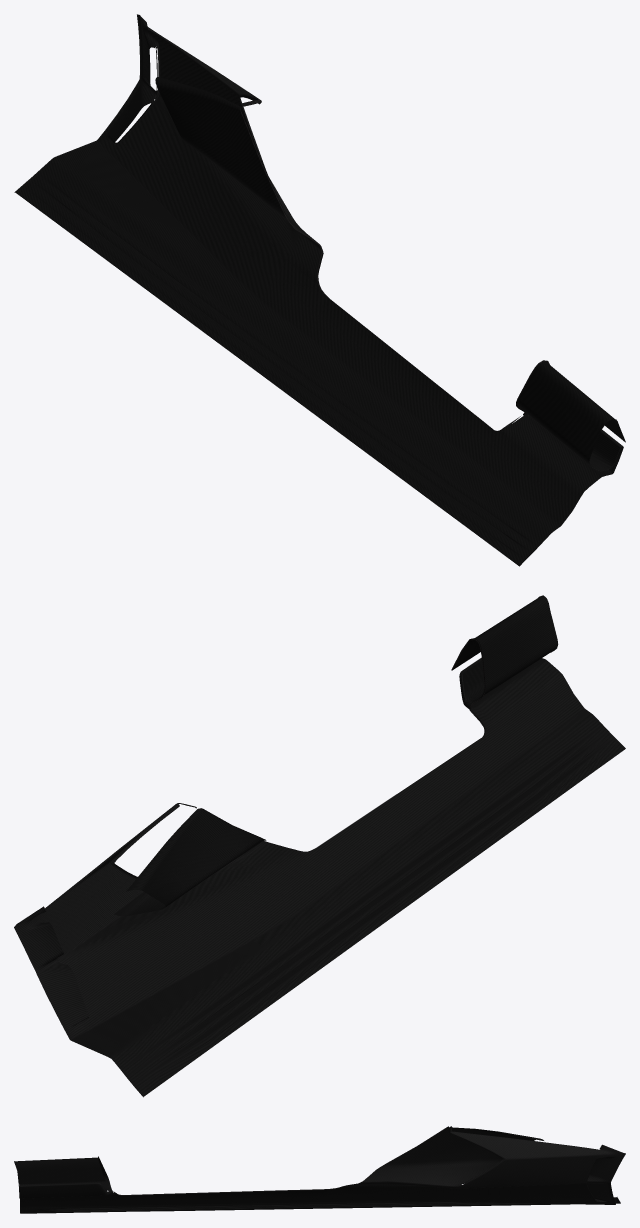
File: sideskirt_l.glb
3 renders of one model, top to bottom at view 1: azimuth 30°, elevation 25°; view 2: azimuth 150°, elevation 25°; view 3: azimuth 270°, elevation 25°, orthographic. The views are drawn at different scales.
Parts seen in each view (by area): view 1: Carbon1_Geo_lodA_Lamborghini_IVRewardRecycled_2024Carbon1_m1; view 2: Carbon1_Geo_lodA_Lamborghini_IVRewardRecycled_2024Carbon1_m1; view 3: Carbon1_Geo_lodA_Lamborghini_IVRewardRecycled_2024Carbon1_m1.
Part boxes in pixels (<box>): Carbon1_Geo_lodA_Lamborghini_IVRewardRecycled_2024Carbon1_m1: <box>14,14,625,566</box>; Carbon1_Geo_lodA_Lamborghini_IVRewardRecycled_2024Carbon1_m1: <box>14,595,625,1097</box>; Carbon1_Geo_lodA_Lamborghini_IVRewardRecycled_2024Carbon1_m1: <box>14,1126,625,1213</box>.
Size of the model in its own units: 0.00312 by 0.00419 by 0.021.
Materials: 1 (1 with a texture image).
